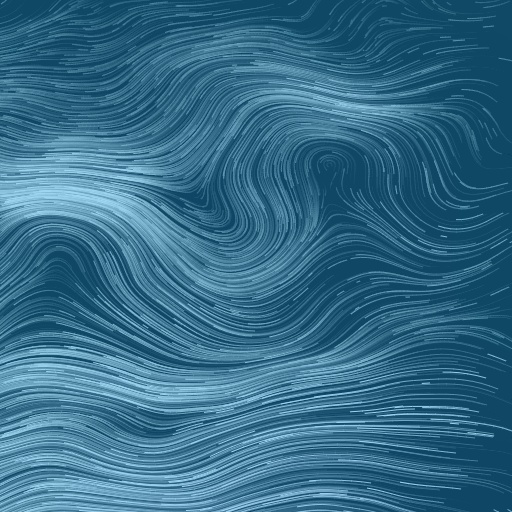eddy: (315, 154, 344, 181)
